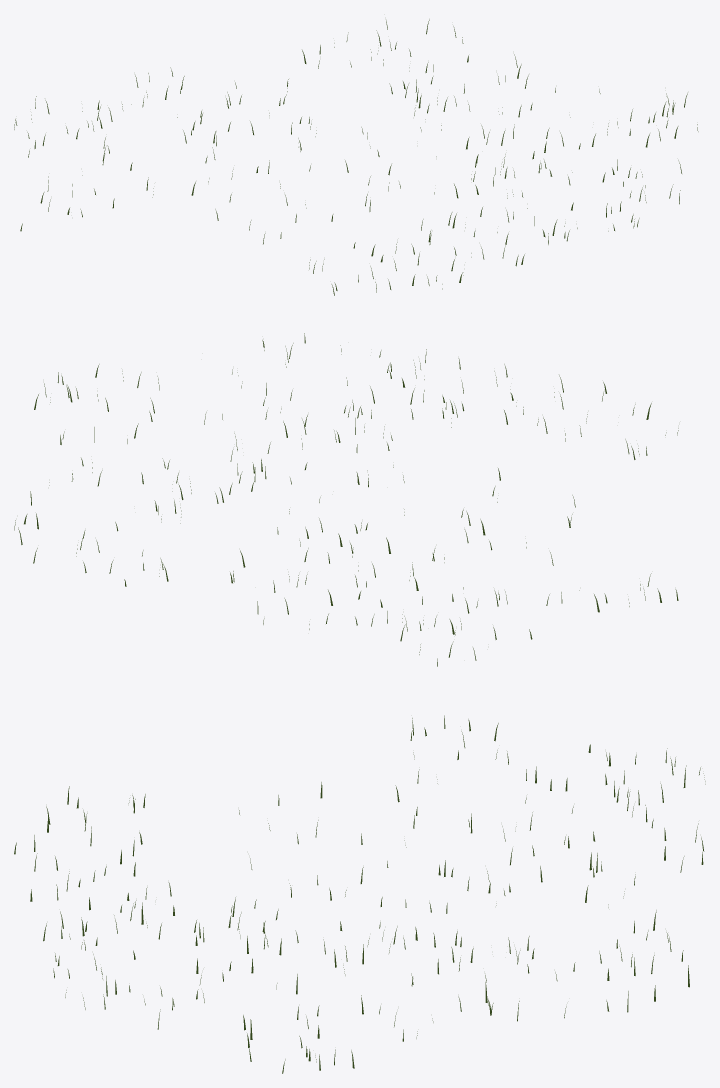
3 renders of one model, top to bottom at view 1: azimuth 30°, elevation 25°; view 2: azimuth 150°, elevation 25°; view 3: azimuth 270°, elevation 25°, orthographic. The views are drawn at different scales.
Parts seen in each view (by area): view 1: GrassPatch; view 2: GrassPatch; view 3: GrassPatch.
Boxes of the visible parts, left/top/right/bottom form: GrassPatch: left=14, top=19, right=698, bottom=295; GrassPatch: left=14, top=333, right=678, bottom=666; GrassPatch: left=14, top=715, right=705, bottom=1073.
Size of the model in its own units: 17.85 by 0.491 by 14.15.
